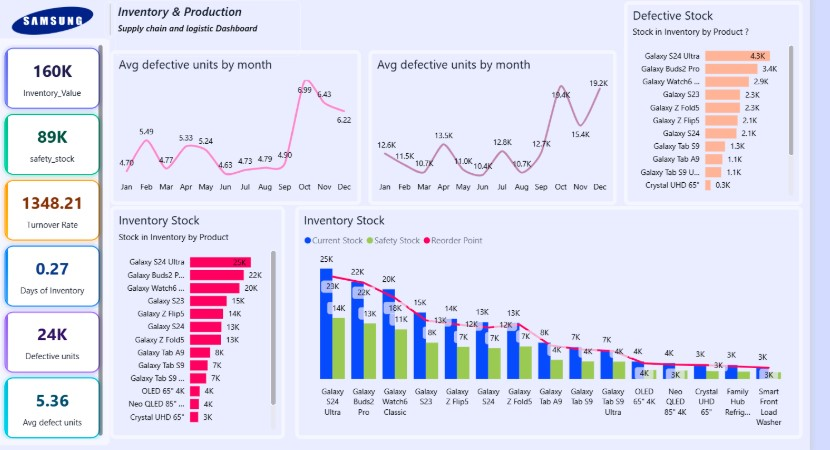

Layout of this report page (visuals, bound fields, positions):
{"tool":"powerbi","page":{"name":"Inventory","canvas":[1280,720],"ordinal":3},"visuals":[{"type":"shape","title":"Inventory & Production","box":[189.1,7,291.3,88.1],"z":0},{"type":"shape","box":[171.4,7.2,17.3,57.6],"z":1000},{"type":"image","box":[0,0,180,85],"z":2000},{"type":"clusteredBarChart","title":"Inventory Stock","fields":{"Y":["Measures Table.Inventory_Value"],"Category":["dim_product.product_name"]},"box":[180,329.8,275,365.8],"z":9000},{"type":"lineClusteredColumnComboChart","title":"Inventory Stock","fields":{"Category":["dim_product.product_name"],"Y":["Measures Table.Inventory_Value","Measures Table.safety_stock"],"Y2":["Measures Table.Reorder Point"]},"box":[470.9,329.8,797.8,365.8],"z":10000},{"type":"clusteredBarChart","title":"Defective Stock","fields":{"Y":["Measures Table.Defect_Rate"],"Category":["dim_product.product_name"]},"box":[987.8,7.2,280.8,321.1],"z":11000},{"type":"lineChart","title":"Avg defective units by month","fields":{"Category":["dim_date.month_short"],"Y":["Avg(fact_production.defective_units)"]},"box":[180,85,394.6,243.4],"z":12000},{"type":"lineChart","title":"Avg defective units by month","fields":{"Category":["dim_date.month_short"],"Y":["Measures Table.Inventory_Value"]},"box":[586.1,85,390.2,243.4],"z":13000},{"type":"htmlContent443BE3AD55E043BF878BED274D3A6855","fields":{"content":["Measures Table.HTML_inventoryBorder_KPI_Panel"]},"box":[0,79.9,179.7,640],"z":14000},{"type":"slicer","fields":{"Values":["dim_product.product_name"]},"box":[688.3,0,299.9,85],"z":15000}]}

Visuals, with their boxes on the page's 1280x720 design canvas (x1, y1, x2, y2). These are canvas units, not pixel positions in the 830x450 screenshot, which may show the page scaled, cropped or inside an application window:
"Inventory & Production" shape: [189,7,480,95]
shape: [171,7,189,65]
image: [0,0,180,85]
"Inventory Stock" clusteredBarChart: [180,330,455,696]
"Inventory Stock" lineClusteredColumnComboChart: [471,330,1269,696]
"Defective Stock" clusteredBarChart: [988,7,1269,328]
"Avg defective units by month" lineChart: [180,85,575,328]
"Avg defective units by month" lineChart: [586,85,976,328]
htmlContent443BE3AD55E043BF878BED274D3A6855 - Measures Table.HTML_inventoryBorder_KPI_Panel: [0,80,180,720]
slicer - dim_product.product_name: [688,0,988,85]
